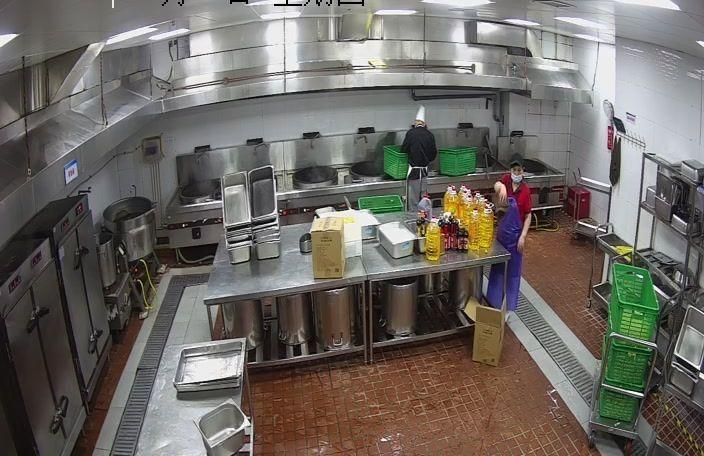mask: (509, 166, 524, 182)
